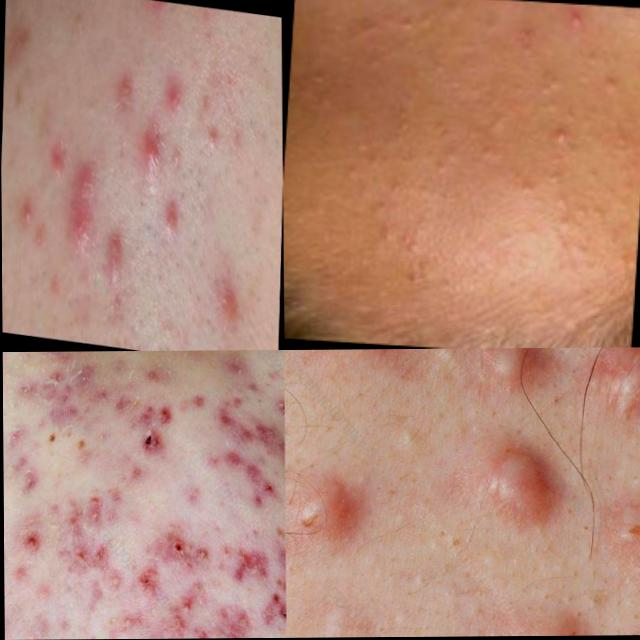6: (436, 434, 589, 561), (288, 461, 366, 557), (573, 348, 640, 442), (476, 349, 541, 401)
8: (143, 121, 173, 171), (105, 226, 133, 278), (48, 130, 73, 187), (168, 54, 187, 121), (165, 194, 181, 252)
blackheads: (39, 471, 120, 566), (210, 454, 285, 521), (36, 361, 101, 432), (200, 407, 284, 460), (219, 527, 285, 591), (134, 395, 189, 467), (67, 152, 98, 274), (18, 169, 41, 233)
